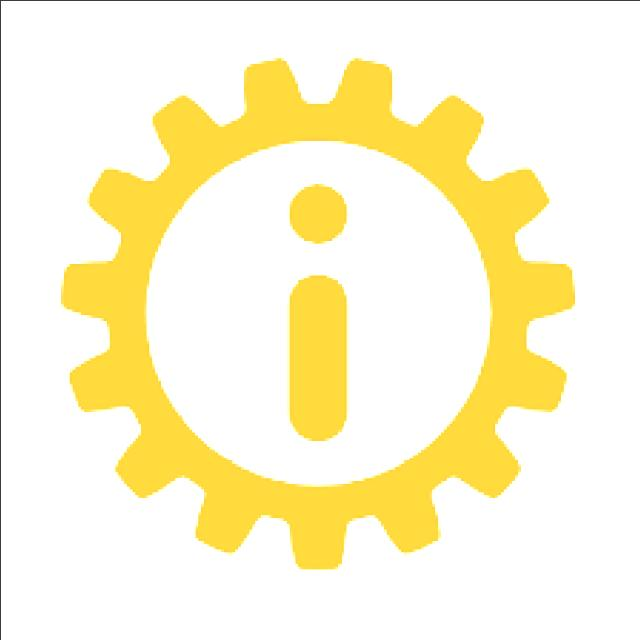kontrolka: (47, 31, 612, 586)
